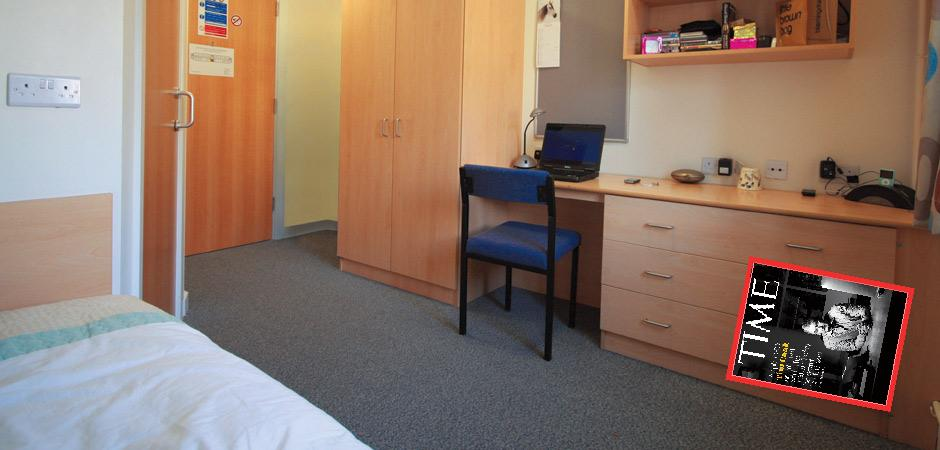times: (721, 254, 911, 416)
